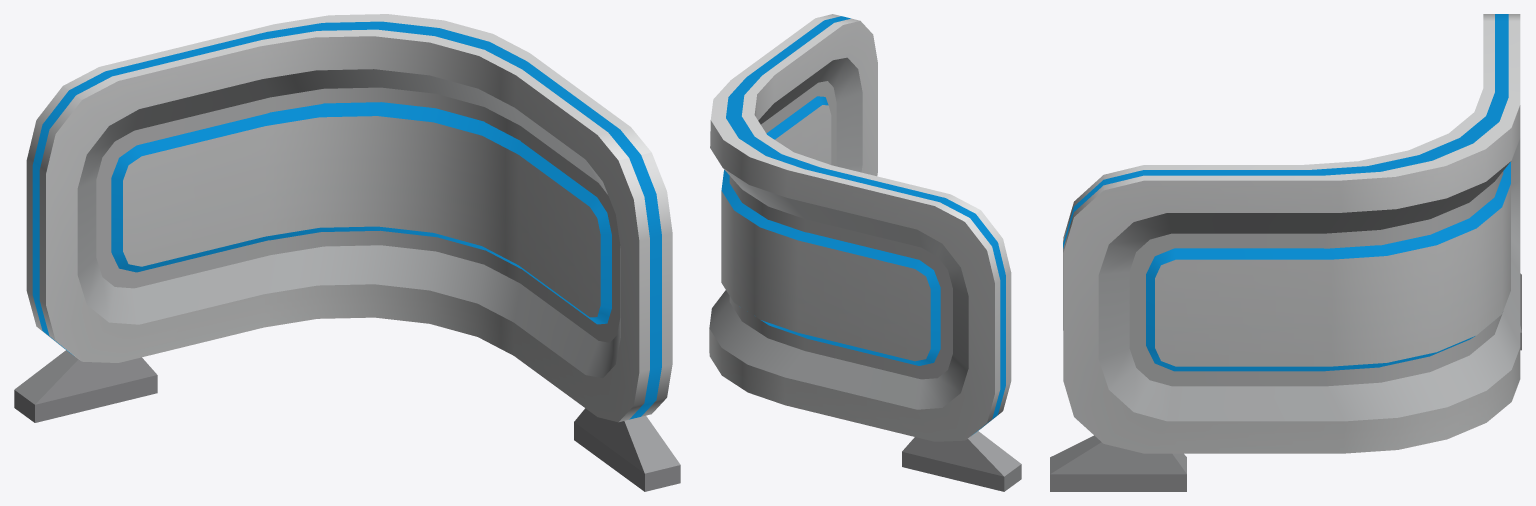
The model's file is Fence_type_A_012.glb.
3 renders of one model, left to right at view 1: azimuth 30°, elevation 25°; view 2: azimuth 150°, elevation 25°; view 3: azimuth 270°, elevation 25°, orthographic. The views are drawn at different scales.
Parts seen in each view (by area): view 1: Fence_type_A_012; view 2: Fence_type_A_012; view 3: Fence_type_A_012.
Part boxes in pixels (box(x1,y1,x2,y2)): Fence_type_A_012: box(14, 14, 680, 491); Fence_type_A_012: box(709, 14, 1021, 491); Fence_type_A_012: box(1050, 14, 1521, 491).
Bounding box in the file's own units: 1.95 × 1.41 × 1.94.
Materials: 2 (2 with a texture image).
